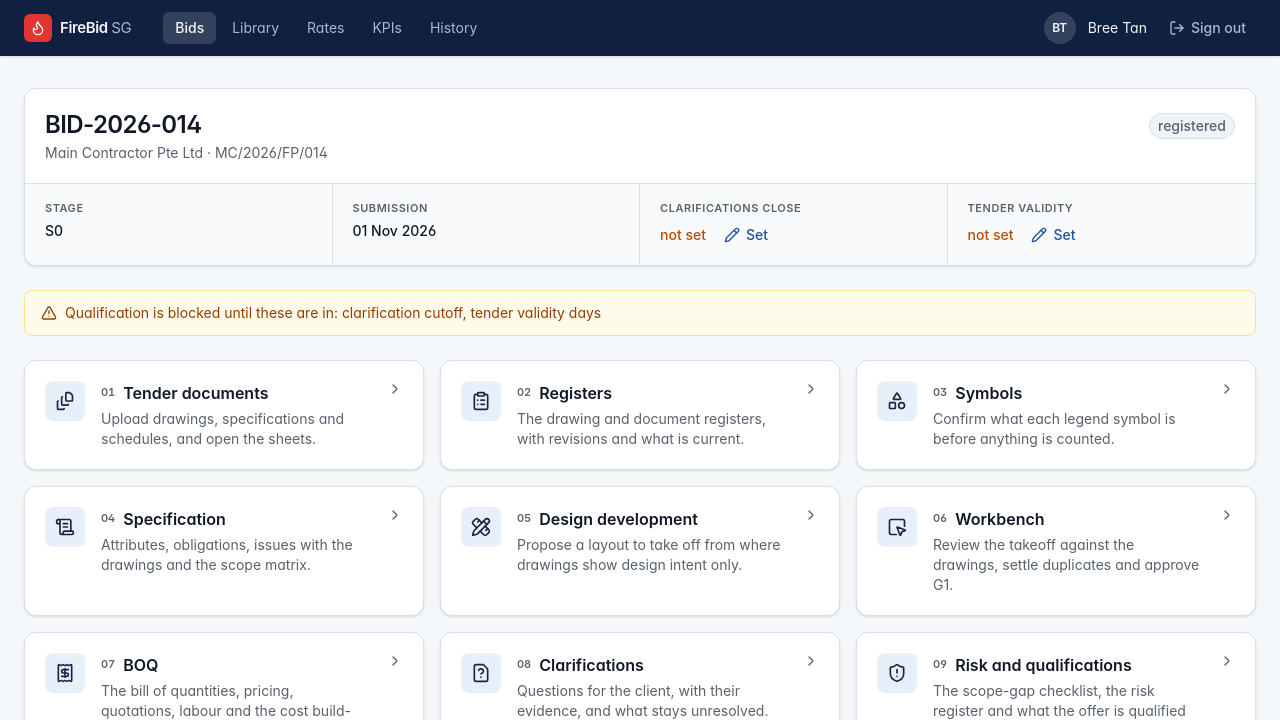
Scenario: a bid's page › sets when clarifications close, as an instant
Click the button with aria-label "Set clarifications close": (746, 234) x1=714 y1=220 x2=778 y2=248
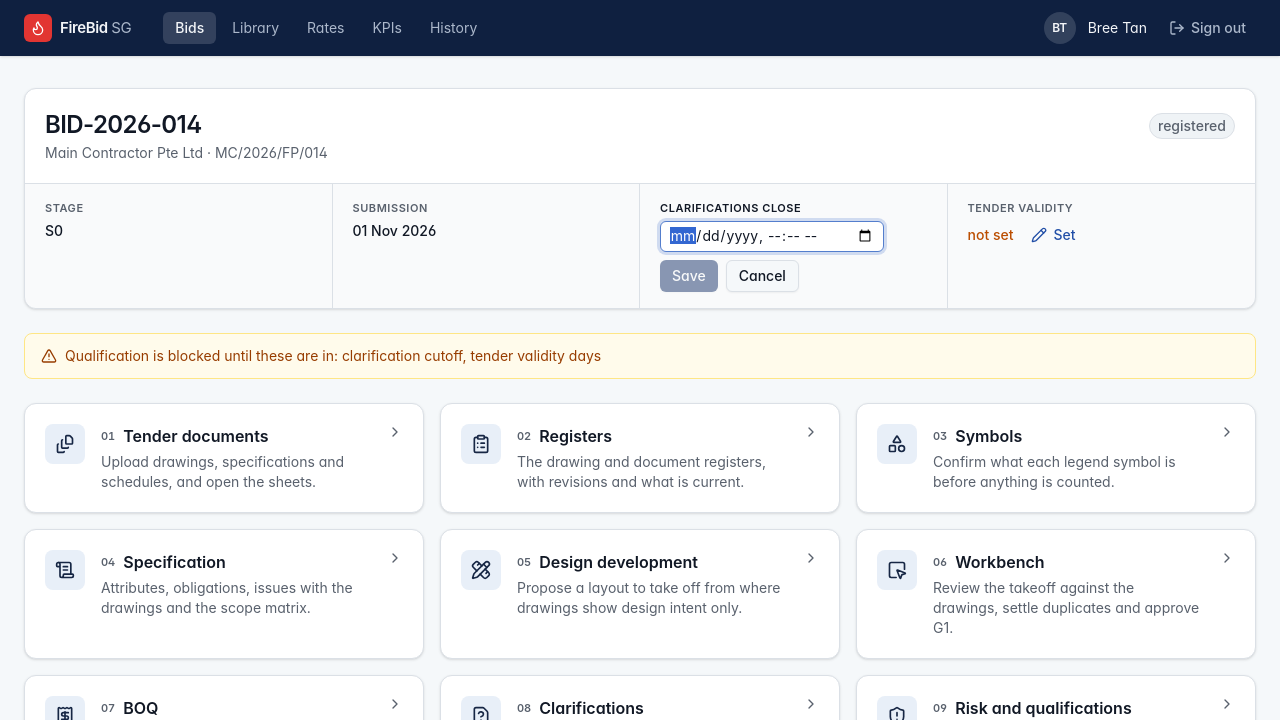
In the field labelled "Clarifications close": (772, 236) x1=660 y1=220 x2=884 y2=252, type "2026-10-20T17:00"
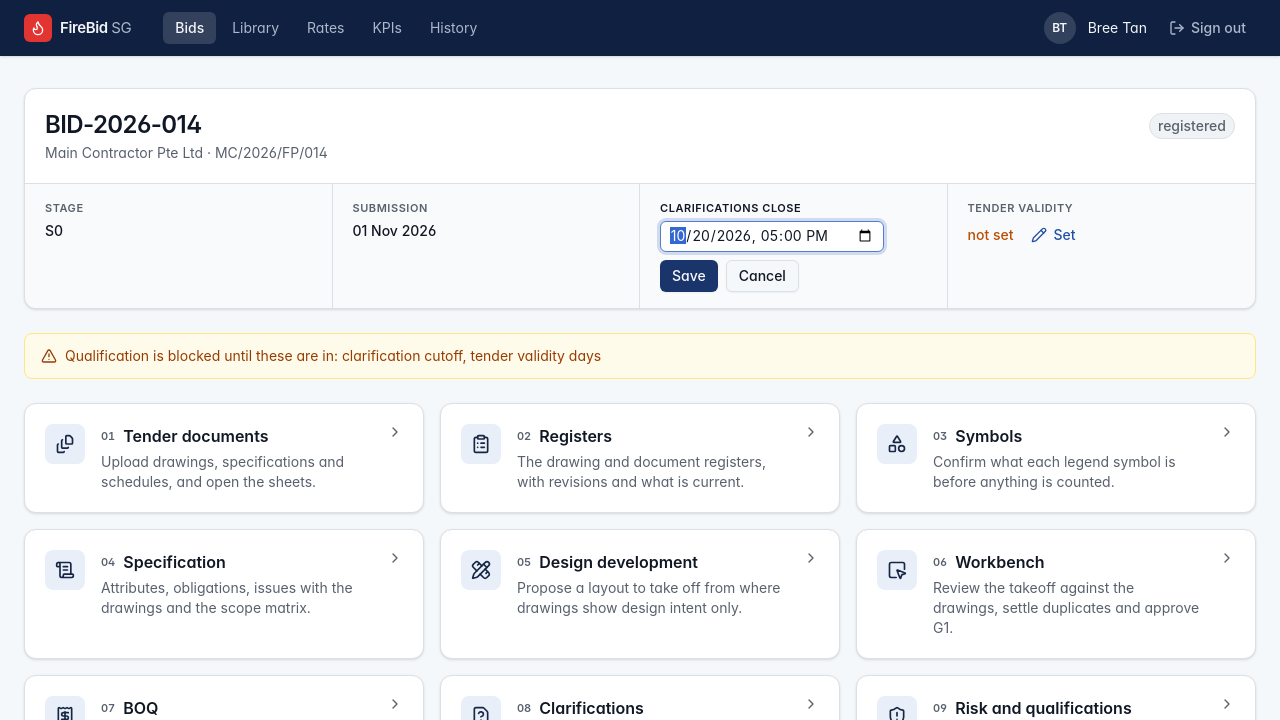
Click the button "Save": (689, 276) x1=660 y1=260 x2=718 y2=292
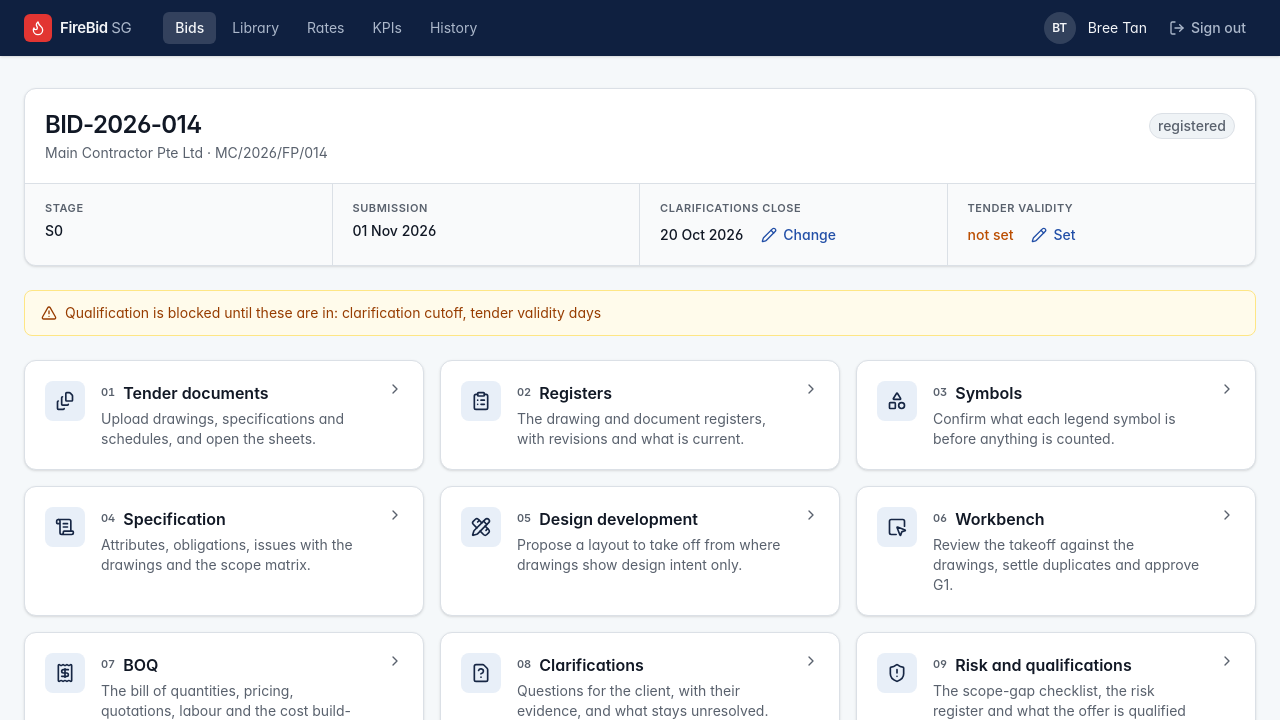
Expected: the text "20 Oct 2026" is shown, x1=660 y1=224 x2=743 y2=244
